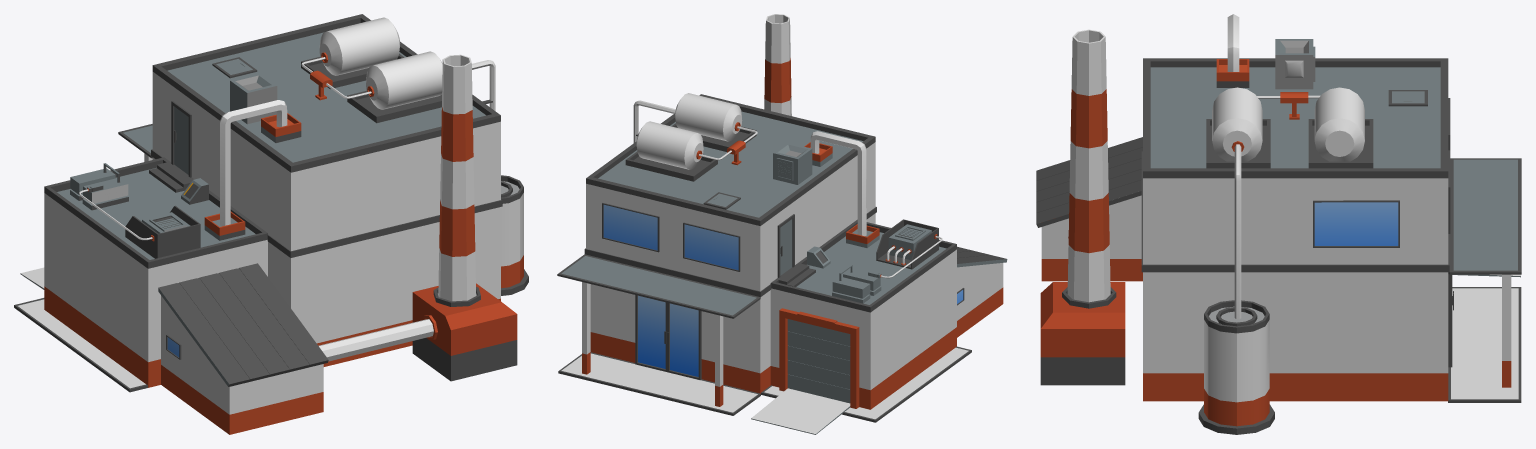
File: Factory_3.fbx
3 renders of one model, left to right at view 1: azimuth 30°, elevation 25°; view 2: azimuth 150°, elevation 25°; view 3: azimuth 270°, elevation 25°, orthographic. The views are drawn at different scales.
Visible parts, largest first — view 1: Factory_3; view 2: Factory_3; view 3: Factory_3.
Part boxes in pixels (bbox=[...]): Factory_3: bbox=[14, 14, 528, 434]; Factory_3: bbox=[557, 14, 1007, 434]; Factory_3: bbox=[1036, 14, 1521, 434].
Bounding box in the file's own units: 1382 × 953 × 1272.
